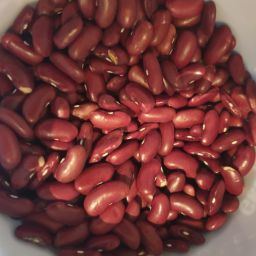Pinto Beans (kidney beans): (5, 1, 256, 255), (49, 44, 206, 203)
